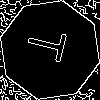T: (25, 25, 77, 66)
